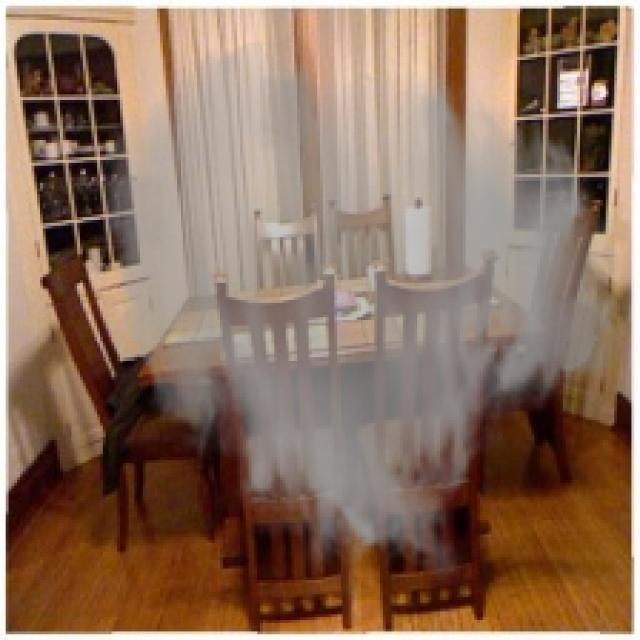Smoke: (94, 37, 623, 586)
